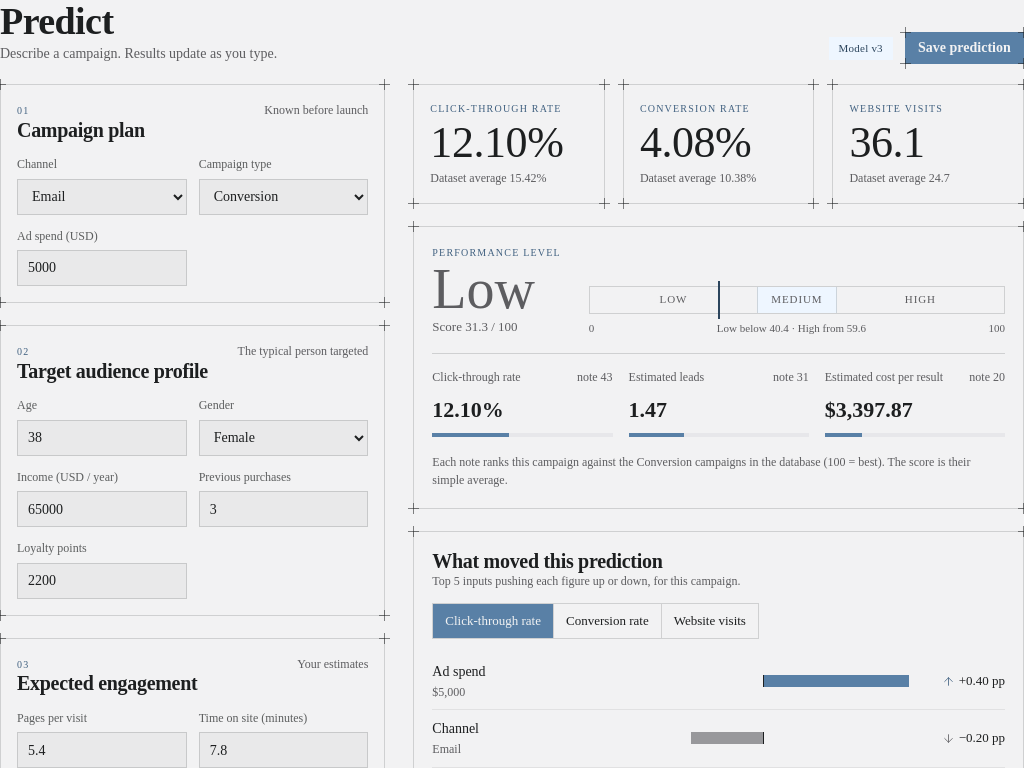
Test: PredictView (live results, no Predict button) › closes the save dialog with Cancel and sends nothing
The image size is (1024, 768).
Click the button "Save prediction" at {"x": 964, "y": 48}, box top-left (905, 32), bottom-right (1023, 64)
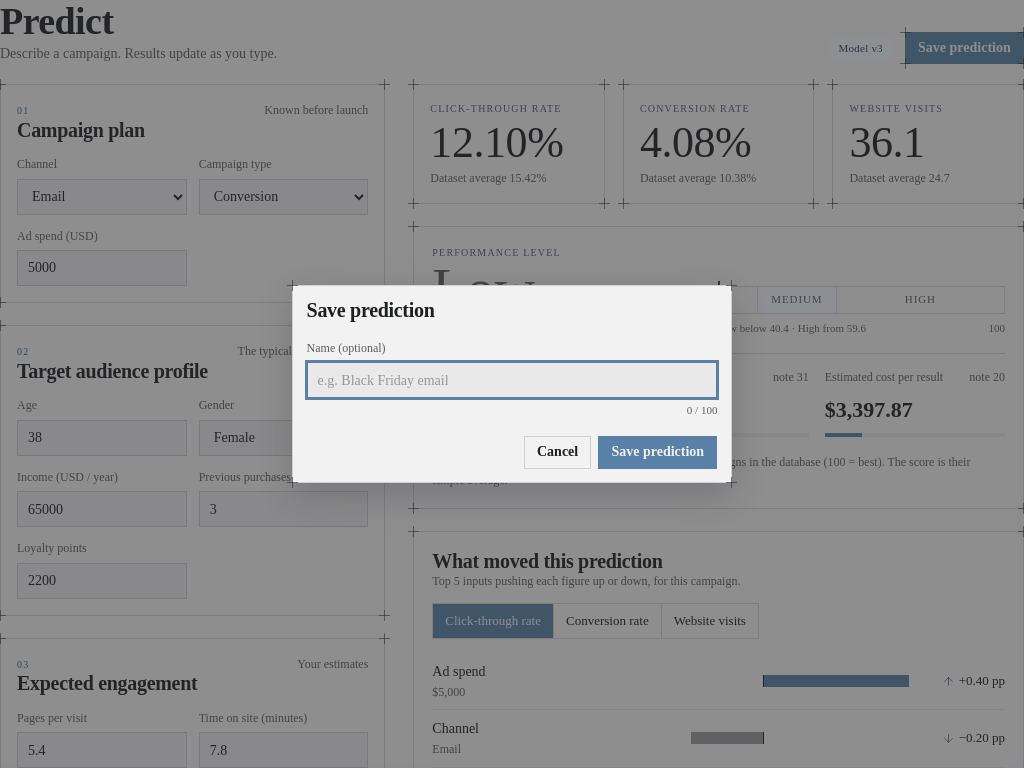
Click the button "Cancel" at {"x": 558, "y": 452}, box top-left (524, 436), bottom-right (592, 469)
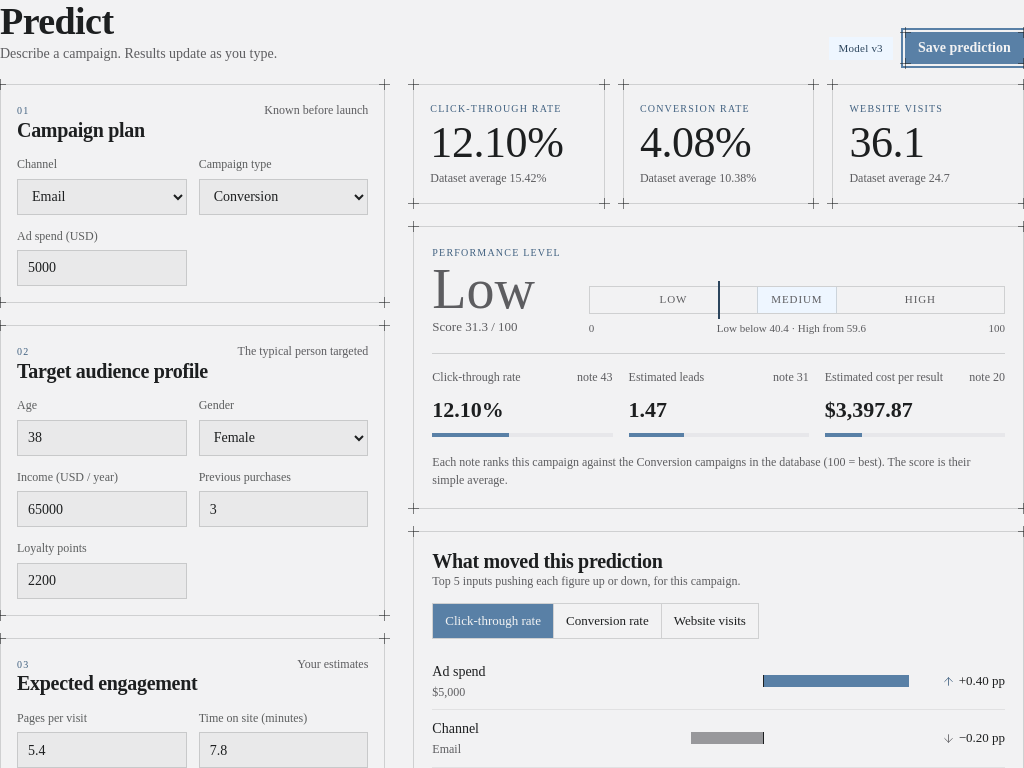
Expected: the dialog is gone
